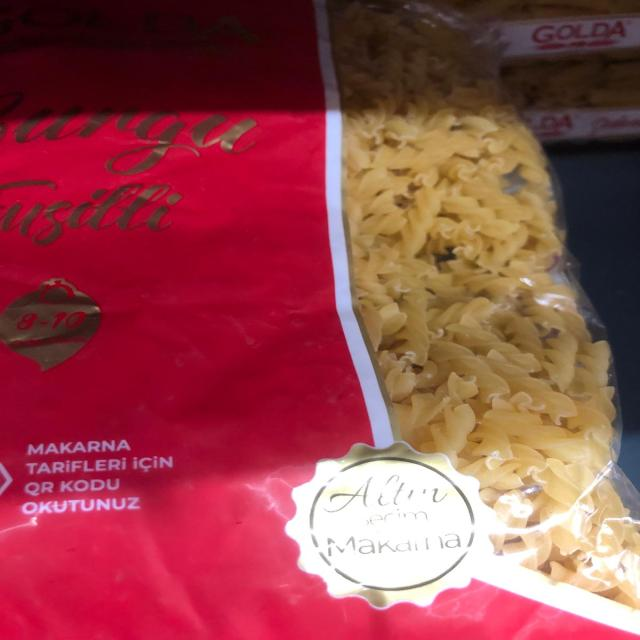fusilli pasta: (12, 6, 640, 640)
